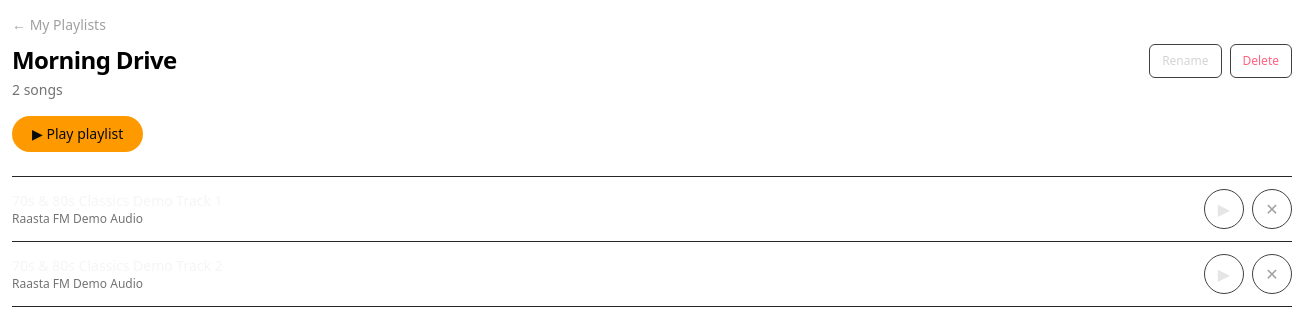
Scenario: PlaylistDetail › removes only the selected track
Click the button "✕" in the row of "70s & 80s Classics Demo Track 1".
click(1272, 209)  # box 1252,189 -> 1292,229
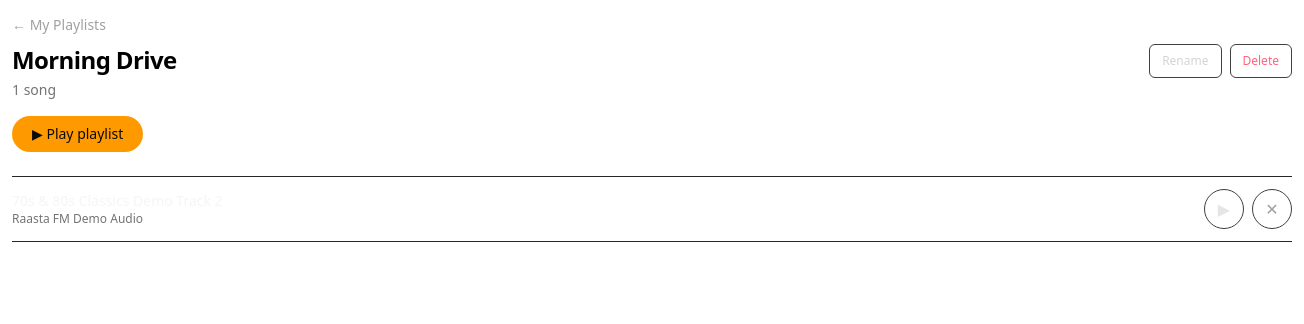
expect the text "1 song" is shown: met, box 12,80 -> 56,99
